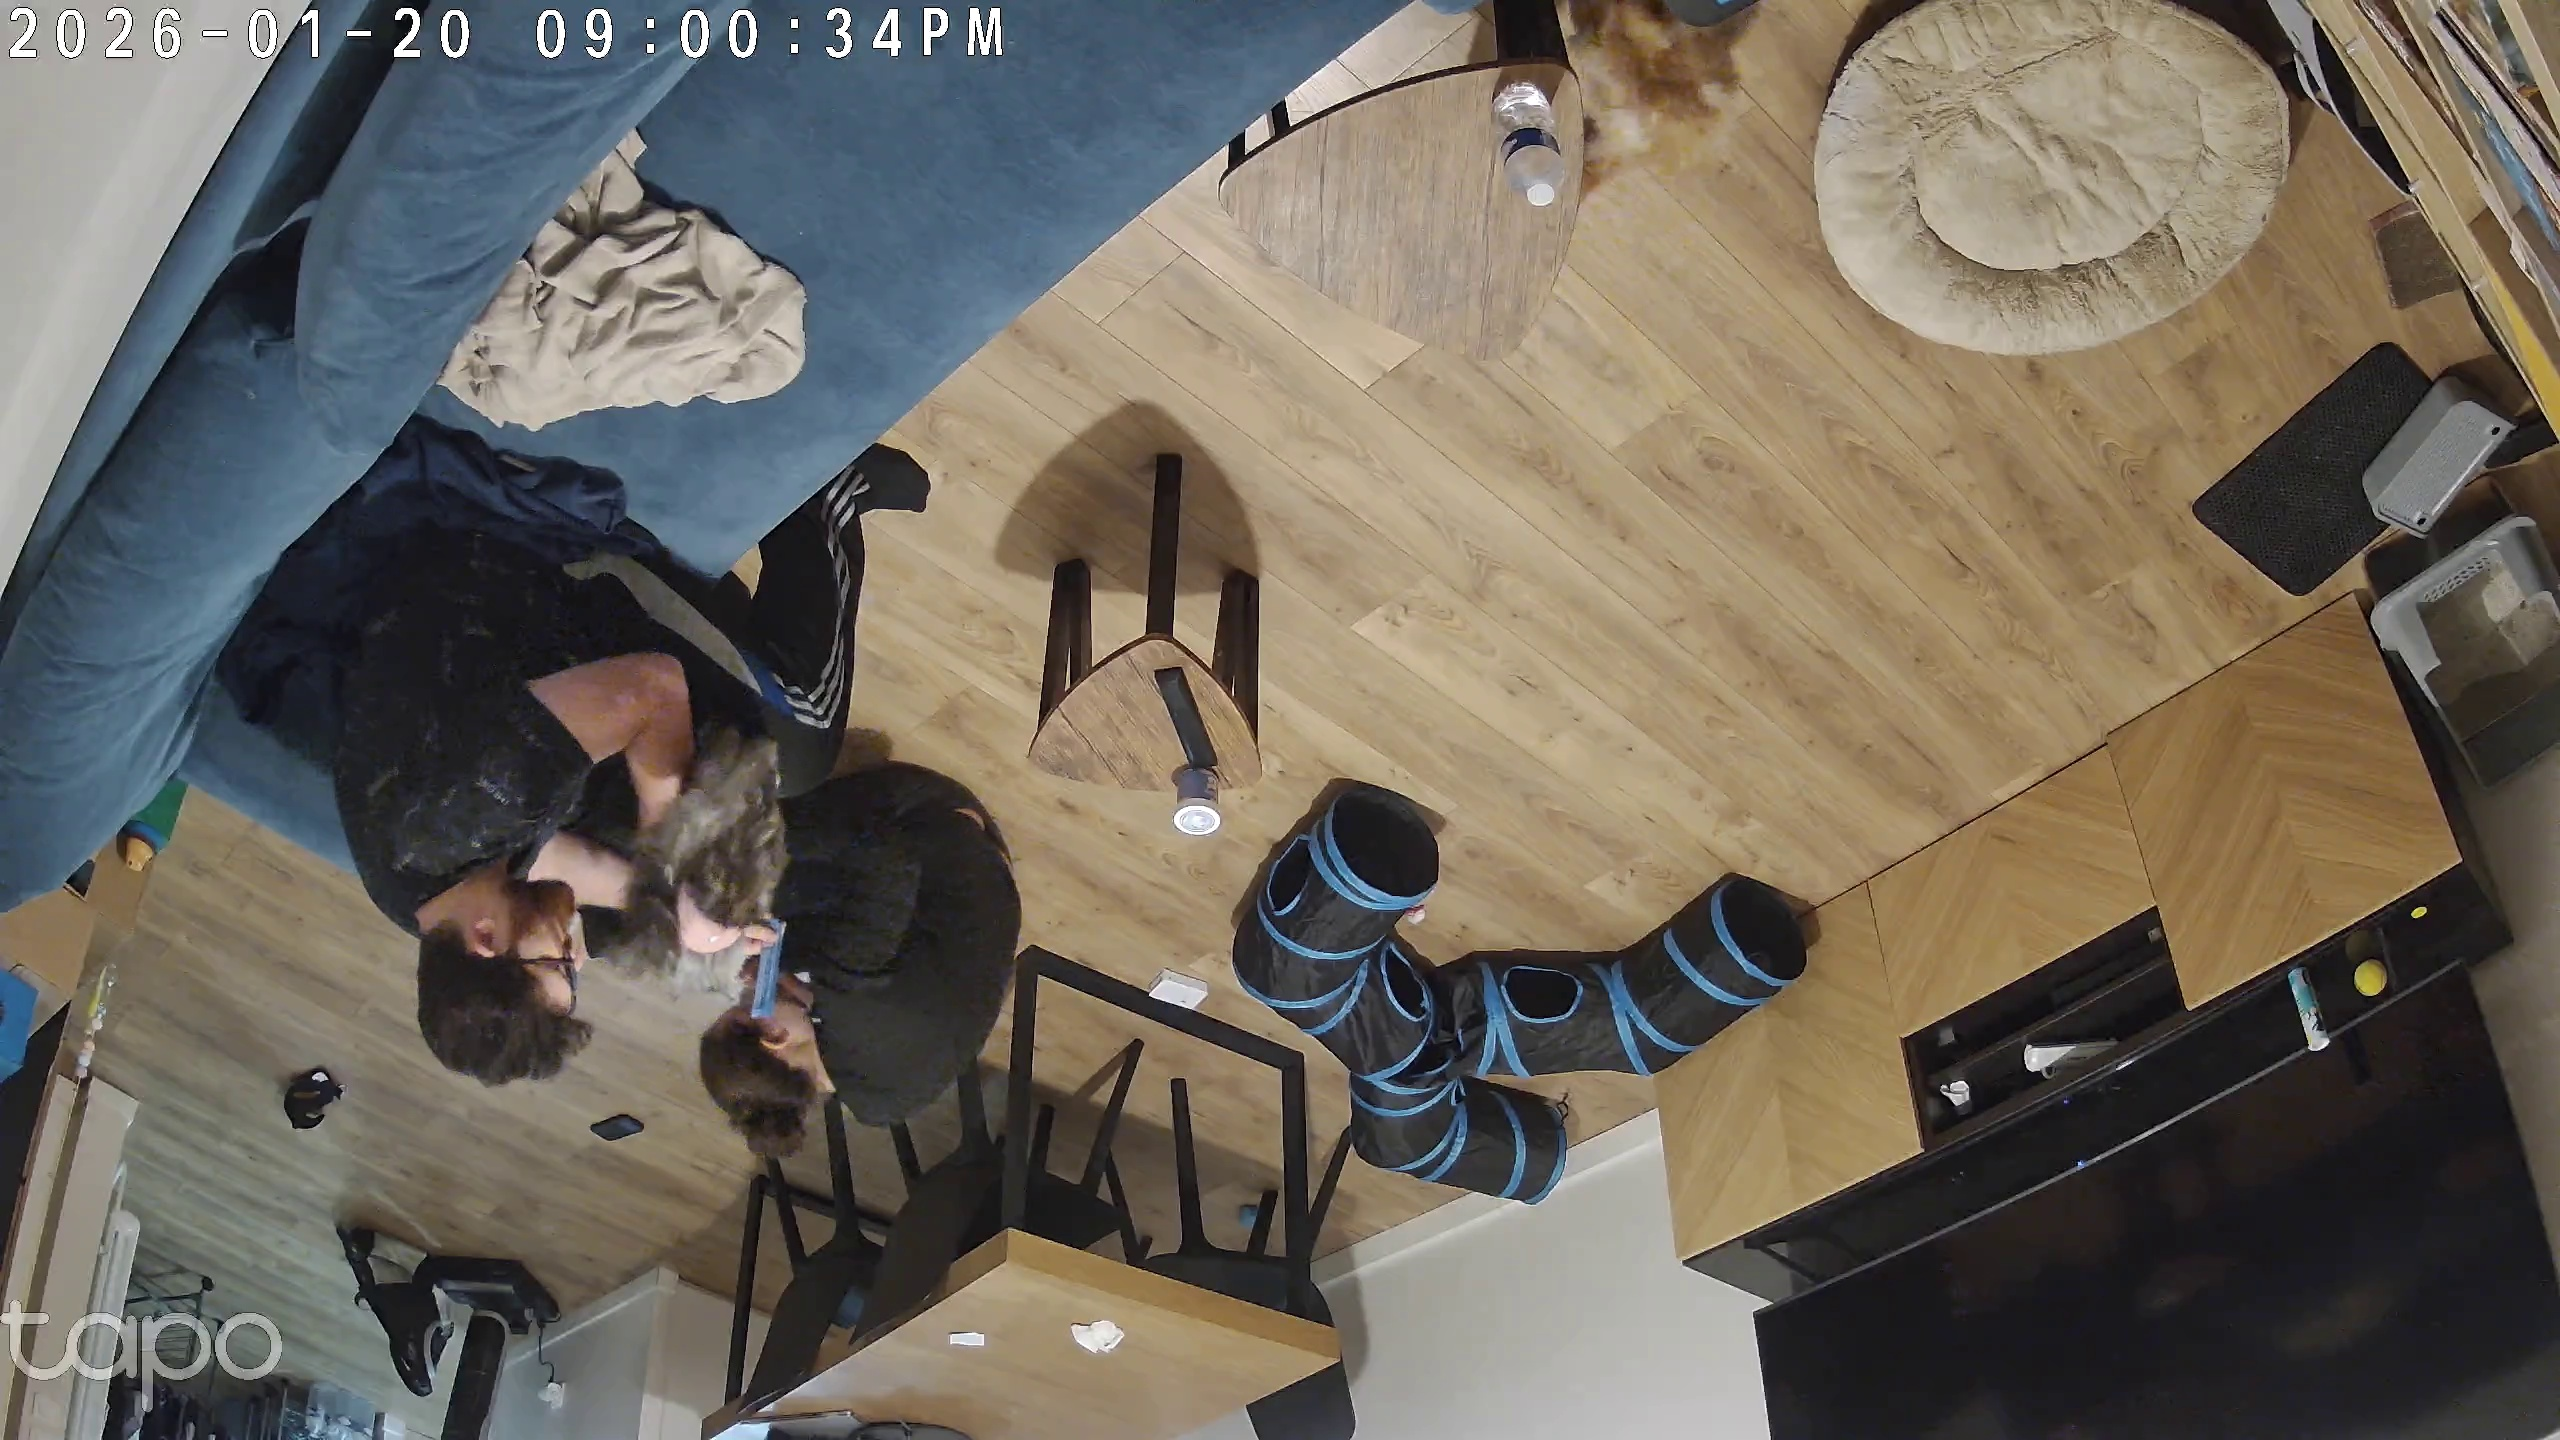Nala: (593, 707, 832, 1020)
Simba: (1565, 0, 1804, 213)
